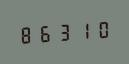eight: (18, 23, 35, 46)
one: (72, 19, 89, 42)
six: (36, 21, 53, 44)
three: (54, 20, 71, 43)
zero: (90, 18, 107, 40)
